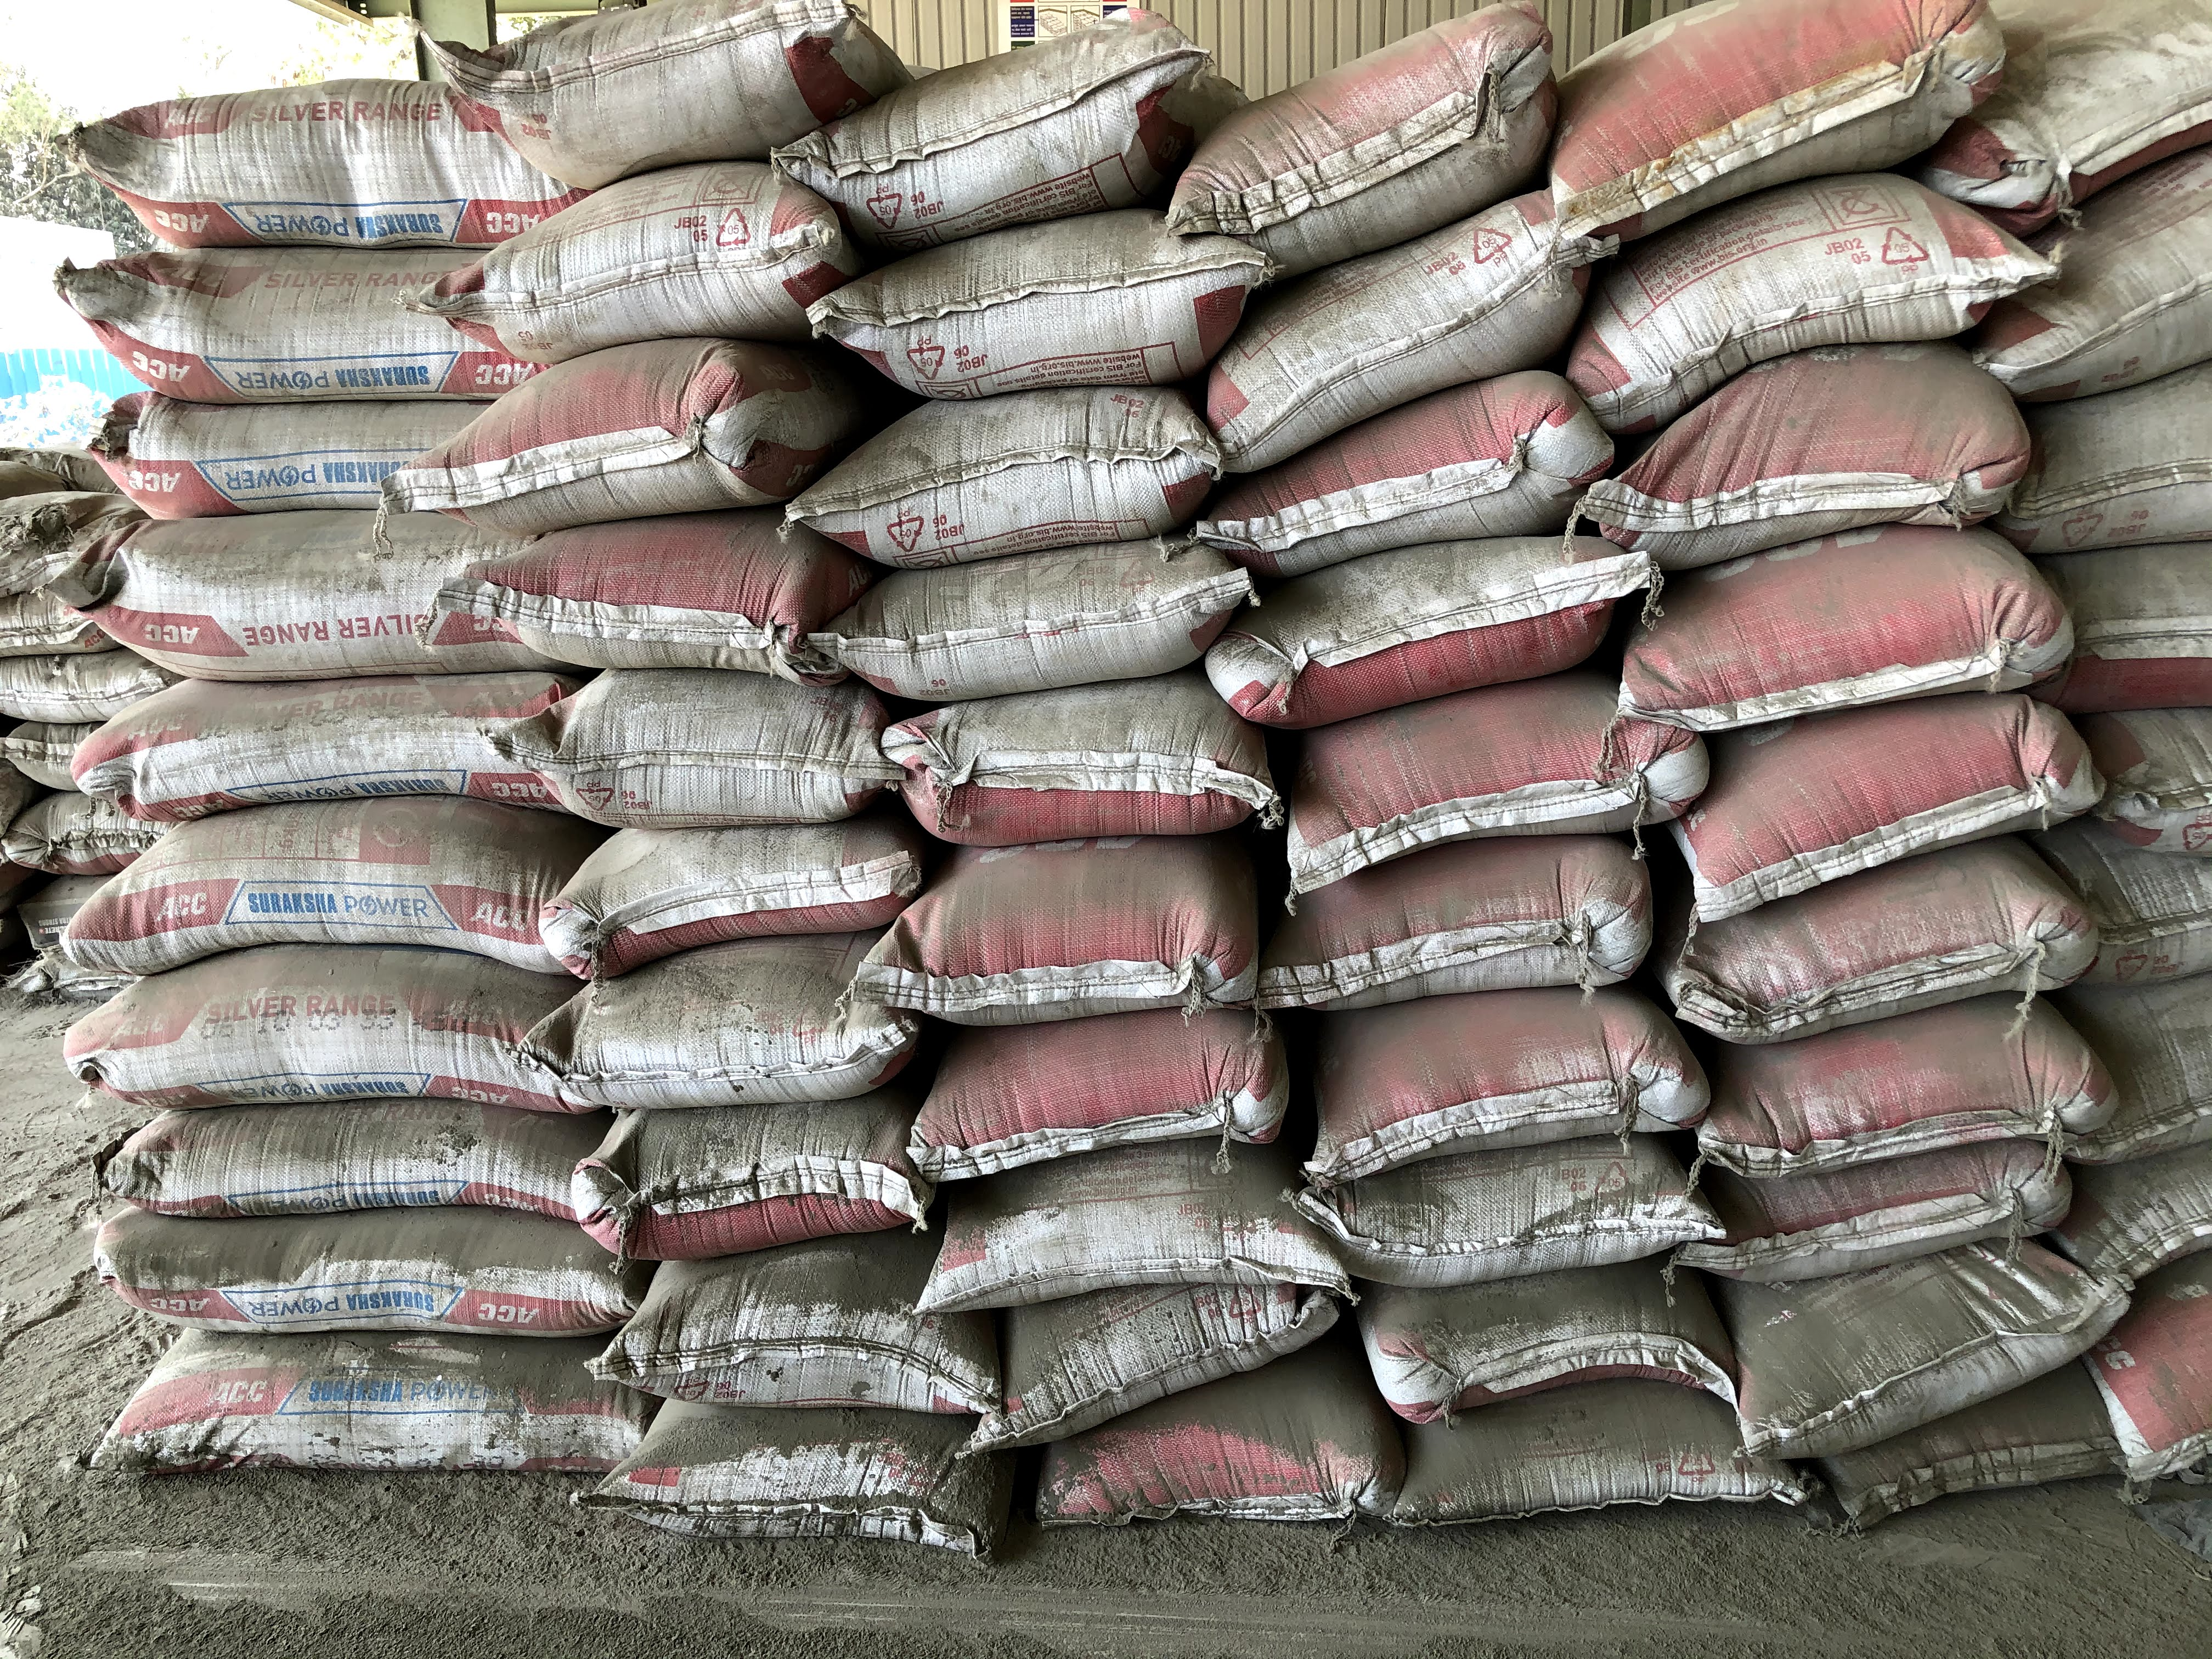cement bag: (1595, 139, 1973, 373), (1672, 824, 2064, 1028), (1205, 186, 1552, 413), (82, 779, 489, 967), (1653, 528, 2020, 735), (111, 1201, 627, 1347), (1604, 350, 2020, 528), (1256, 817, 1689, 986), (1301, 972, 1700, 1148), (73, 77, 528, 230), (158, 1319, 641, 1462), (894, 971, 1224, 1171), (1709, 1124, 2114, 1283), (108, 1089, 566, 1229), (73, 490, 455, 657), (1244, 676, 1689, 817), (82, 967, 566, 1089), (489, 134, 786, 322), (1244, 509, 1568, 676), (599, 1276, 937, 1436), (918, 798, 1224, 971), (866, 359, 1176, 526), (111, 230, 528, 354), (1743, 1258, 2125, 1392), (73, 657, 489, 779), (1386, 1243, 1700, 1401), (866, 183, 1148, 359), (585, 814, 902, 965), (1709, 1009, 2114, 1124), (111, 354, 455, 490), (989, 1277, 1291, 1431), (495, 488, 756, 657), (489, 322, 756, 488), (1080, 1349, 1352, 1511), (559, 986, 824, 1152), (918, 645, 1200, 798), (824, 532, 1200, 645), (1205, 64, 1552, 186), (894, 1171, 1291, 1277), (1547, 44, 1973, 139), (1386, 1401, 1773, 1506), (1653, 735, 2064, 824), (566, 685, 885, 798), (456, 26, 786, 134), (808, 98, 1148, 183), (599, 1152, 824, 1276), (1280, 416, 1568, 509), (1367, 1173, 1700, 1243), (611, 1436, 937, 1478)
